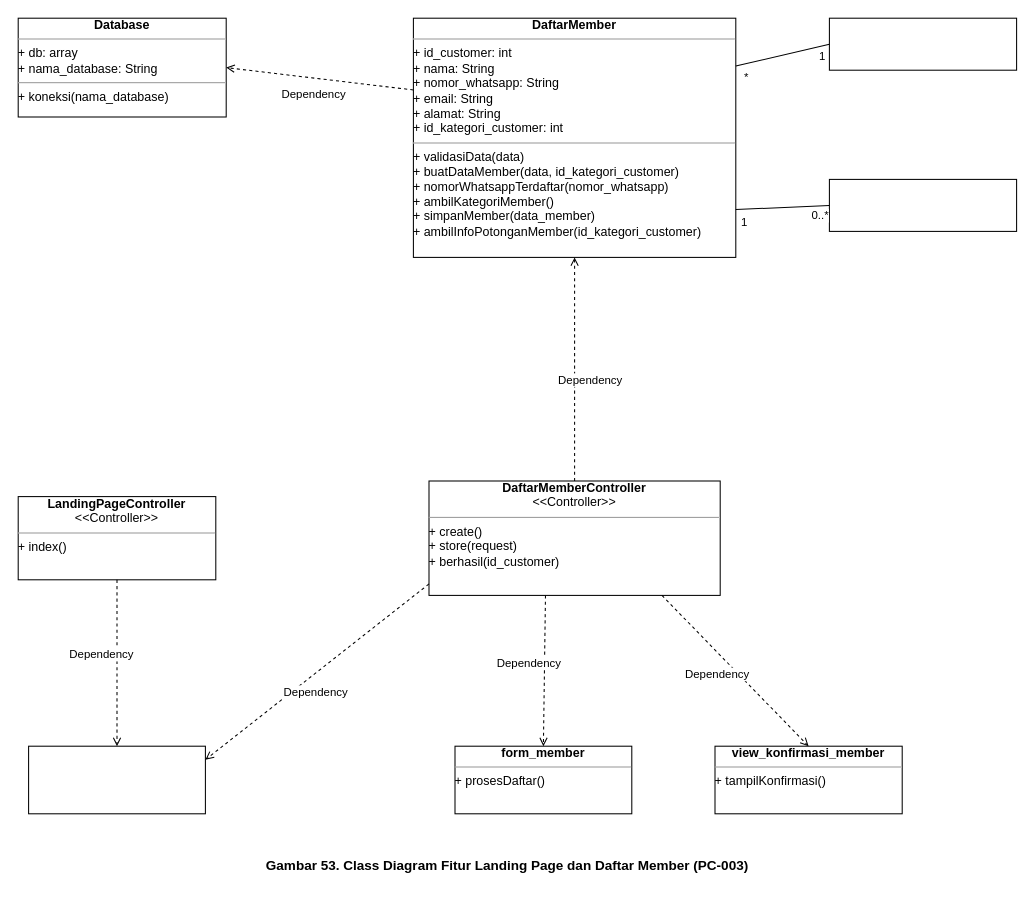
Some shapes in this 1035 by 900 pixel diagram are drawn without their labels. Here are the shapes that lost their labels. From the top down, the box of each, then its label:
(828, 17, 1017, 70): KategoriCustomer (PC-002)
(828, 178, 1017, 231): Pesanan (PC-003)
(28, 745, 205, 814): view_landing_page + daftarMember()
